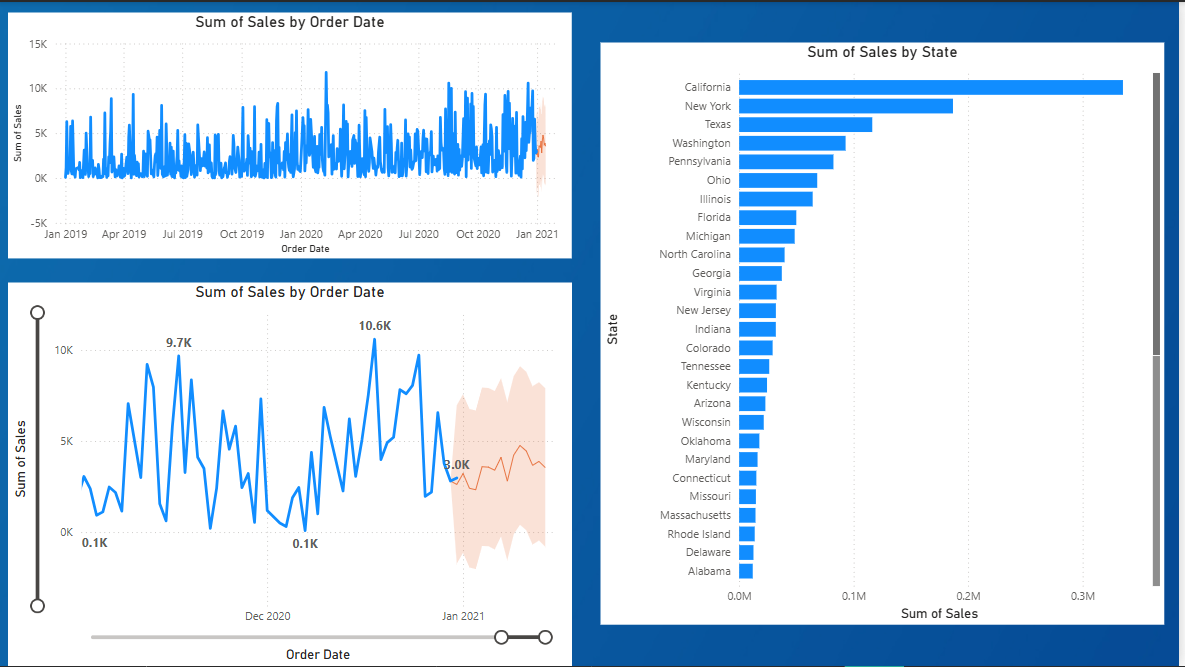

The dashboard page shown, as its layout file describes it:
{"tool":"powerbi","page":{"name":"Super store sales Forecasting","canvas":[1280,720],"ordinal":1},"visuals":[{"type":"lineChart","title":" sales Forecasting 15 days Forecast","fields":{"Y":["Sum(SuperStore_Sales_Dataset (2).Sales)"],"Category":["SuperStore_Sales_Dataset (2).Order Date"]},"box":[9.8,113.9,611.6,266.8],"z":0},{"type":"lineChart","title":"sales Forecasting 15 days Forecast","fields":{"Y":["Sum(SuperStore_Sales_Dataset (2).Sales)"],"Category":["SuperStore_Sales_Dataset (2).Order Date"]},"box":[9.8,396.9,611.6,323.7],"z":1000},{"type":"clusteredBarChart","title":"Sales by State","fields":{"Category":["SuperStore_Sales_Dataset (2).State"],"Y":["Sum(SuperStore_Sales_Dataset (2).Sales)"]},"box":[652.2,113.9,611.6,561.2],"z":2000},{"type":"textbox","box":[9.8,26,896.2,73.2],"z":2001}]}

Visuals, with their boxes in screenshot pixels (x1, y1, x2, y2), scaled from the page's 1280x720 canvas onto the 1185x667 screenshot:
" sales Forecasting 15 days Forecast" lineChart: 9 106 575 353
"sales Forecasting 15 days Forecast" lineChart: 9 368 575 666
"Sales by State" clusteredBarChart: 604 106 1170 625
textbox: 9 24 839 92
